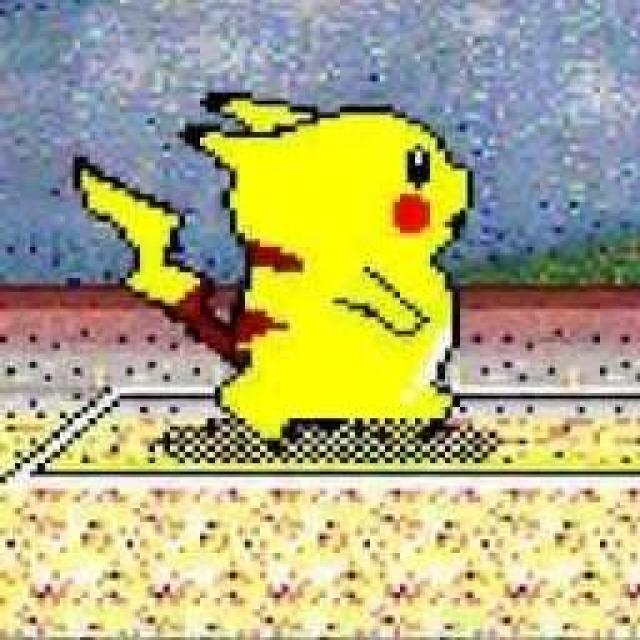pikachu: (75, 92, 474, 444)
